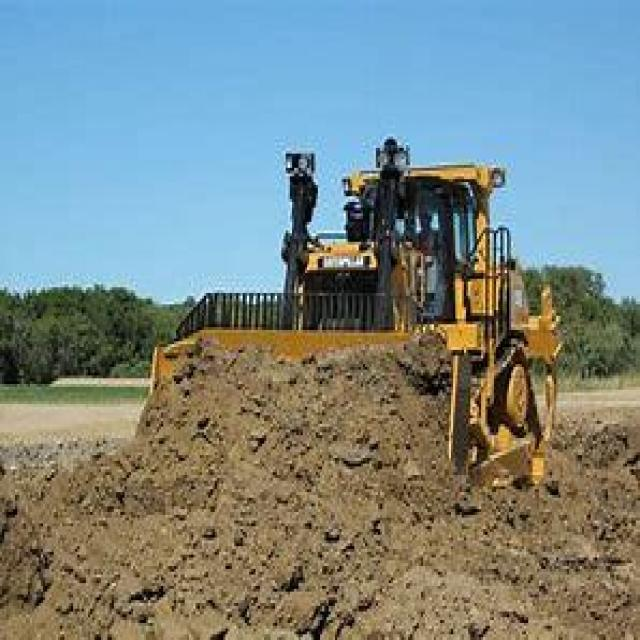Bulldozer: (112, 131, 578, 563)
